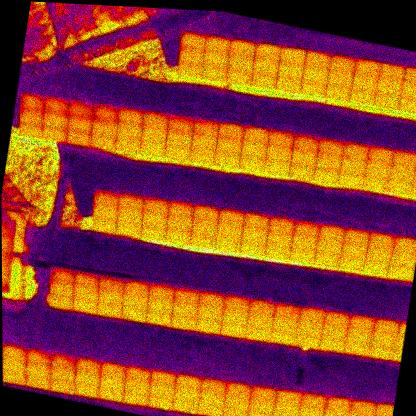Hotspot: (167, 113, 194, 135), (241, 123, 269, 144), (165, 129, 193, 150), (274, 74, 302, 95), (250, 70, 278, 91), (314, 151, 343, 171), (266, 228, 293, 249), (367, 341, 395, 361), (348, 87, 376, 107), (389, 248, 416, 268), (214, 234, 241, 254), (221, 306, 248, 326), (50, 351, 77, 371), (252, 56, 279, 76), (176, 60, 203, 80), (41, 112, 69, 131), (238, 239, 266, 258), (191, 217, 218, 236), (165, 227, 192, 246), (299, 80, 327, 98), (214, 150, 241, 168), (288, 247, 315, 265), (172, 397, 199, 415), (147, 393, 174, 411), (392, 235, 416, 255), (89, 134, 117, 151), (49, 377, 75, 395), (363, 258, 389, 275), (322, 408, 350, 416), (246, 409, 273, 416)
Normal: (140, 110, 168, 133), (92, 101, 120, 124), (66, 114, 94, 137), (41, 95, 70, 117), (116, 189, 145, 211), (229, 36, 256, 59), (18, 106, 46, 128), (267, 213, 295, 235), (115, 204, 143, 226), (242, 210, 271, 231), (67, 98, 94, 120), (190, 131, 217, 153), (116, 121, 143, 143), (354, 57, 381, 79), (179, 29, 206, 51), (351, 71, 378, 93), (177, 45, 204, 67), (90, 118, 118, 139), (192, 202, 220, 223), (167, 199, 195, 220), (273, 300, 301, 321), (203, 33, 231, 54), (326, 68, 354, 89), (240, 139, 269, 159), (141, 195, 170, 215), (374, 76, 403, 96), (93, 186, 119, 208), (191, 117, 218, 138), (365, 158, 392, 179), (340, 154, 367, 175), (290, 146, 317, 167), (215, 135, 242, 156), (316, 235, 343, 256), (290, 232, 317, 253), (378, 61, 405, 82), (303, 50, 330, 71), (148, 281, 175, 302), (279, 45, 306, 66), (343, 337, 370, 358), (96, 299, 123, 320), (227, 53, 254, 74), (342, 140, 370, 160), (267, 128, 295, 148), (117, 106, 145, 126), (265, 143, 293, 163), (238, 153, 266, 173), (367, 230, 395, 250), (343, 226, 371, 246), (298, 304, 326, 324), (72, 269, 100, 289), (202, 49, 230, 69), (139, 126, 168, 145), (389, 162, 415, 183), (49, 265, 75, 286), (254, 41, 280, 62), (367, 145, 394, 165), (317, 137, 344, 157), (217, 121, 244, 141), (18, 92, 45, 112), (293, 218, 320, 238), (218, 207, 245, 227), (241, 224, 268, 244), (166, 213, 193, 233), (223, 293, 250, 313), (173, 285, 200, 305), (123, 277, 150, 297), (98, 273, 125, 293), (296, 318, 323, 338), (172, 298, 199, 318), (122, 291, 149, 311), (219, 320, 246, 340), (194, 316, 221, 336), (145, 308, 172, 328), (121, 305, 148, 325), (300, 390, 327, 410), (200, 375, 227, 395), (175, 371, 202, 391), (124, 363, 151, 383), (75, 355, 102, 375), (277, 60, 304, 80), (301, 65, 328, 85), (139, 139, 167, 158), (318, 222, 346, 241), (140, 210, 168, 229), (139, 223, 167, 242), (245, 311, 273, 330), (349, 397, 377, 416), (274, 387, 302, 406), (25, 347, 53, 366), (73, 369, 101, 388), (324, 83, 352, 102), (225, 66, 253, 85), (362, 173, 388, 193), (92, 201, 118, 221), (92, 215, 118, 235), (170, 313, 196, 333), (250, 383, 276, 403), (338, 169, 365, 188), (288, 161, 315, 180), (264, 157, 291, 176), (364, 245, 391, 264), (340, 240, 367, 259), (216, 221, 243, 240), (115, 219, 142, 238), (198, 290, 225, 309), (271, 314, 298, 333), (97, 287, 124, 306), (72, 283, 99, 302), (270, 328, 297, 347), (324, 394, 351, 413), (225, 380, 252, 399), (149, 368, 176, 387), (99, 360, 126, 379), (124, 377, 151, 396), (25, 359, 52, 378), (65, 130, 93, 148), (41, 126, 69, 144), (337, 254, 365, 272), (248, 298, 276, 316), (71, 297, 99, 315), (200, 65, 228, 83), (331, 53, 356, 73), (348, 313, 374, 332), (324, 310, 350, 329), (293, 134, 320, 152), (314, 166, 341, 184), (164, 144, 191, 162), (17, 121, 44, 139), (387, 262, 414, 280), (263, 243, 290, 261), (189, 231, 216, 249), (372, 317, 399, 335), (370, 329, 397, 347), (197, 303, 224, 321), (294, 331, 321, 349), (247, 397, 274, 415), (223, 393, 250, 411), (73, 381, 100, 399), (373, 91, 400, 109), (392, 149, 416, 169), (244, 324, 272, 341), (123, 390, 151, 407), (386, 177, 412, 195), (319, 335, 345, 353), (49, 280, 75, 298), (48, 293, 74, 311), (50, 364, 76, 382), (313, 251, 340, 268), (345, 326, 372, 343), (146, 295, 173, 312), (173, 385, 200, 402), (149, 381, 176, 398), (99, 374, 126, 391), (97, 386, 124, 403), (24, 372, 51, 389), (3, 342, 27, 361), (189, 148, 215, 165), (322, 323, 348, 340), (198, 389, 224, 406), (272, 400, 299, 416), (115, 138, 141, 154), (3, 356, 27, 373), (3, 368, 27, 385), (196, 401, 223, 416), (398, 95, 416, 114), (399, 82, 416, 101), (298, 404, 324, 416), (221, 405, 249, 416), (402, 65, 416, 86), (347, 411, 374, 416), (272, 412, 298, 416), (296, 415, 323, 416)
